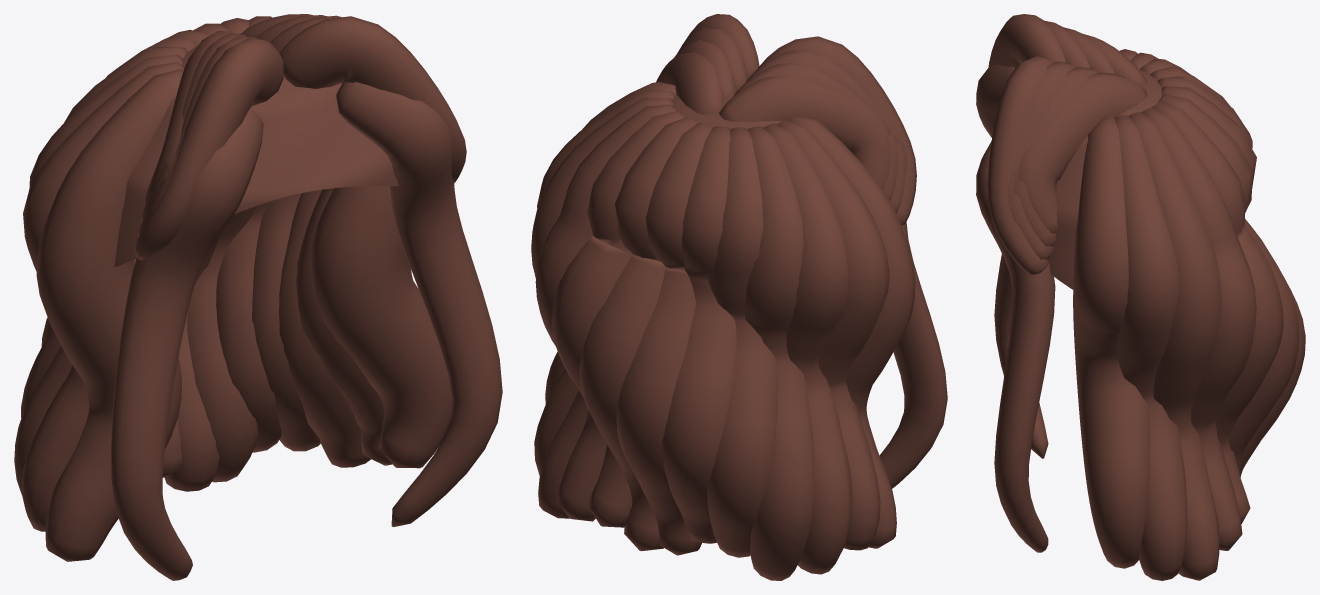
The model's file is studio_long_waves_long.glb.
The picture shows the model from 3 angles, left to right: view 1: azimuth 30°, elevation 25°; view 2: azimuth 150°, elevation 25°; view 3: azimuth 270°, elevation 25°; orthographic projection. The views are drawn at different scales.
Parts seen in each view (by area): view 1: long_waves; view 2: long_waves; view 3: long_waves.
Boxes of the visible parts, x1,y1,x2,y2 form: long_waves: [14, 14, 502, 580]; long_waves: [531, 14, 947, 580]; long_waves: [976, 14, 1305, 580].
Size of the model in its own units: 0.6341 by 0.7839 by 0.4917.
